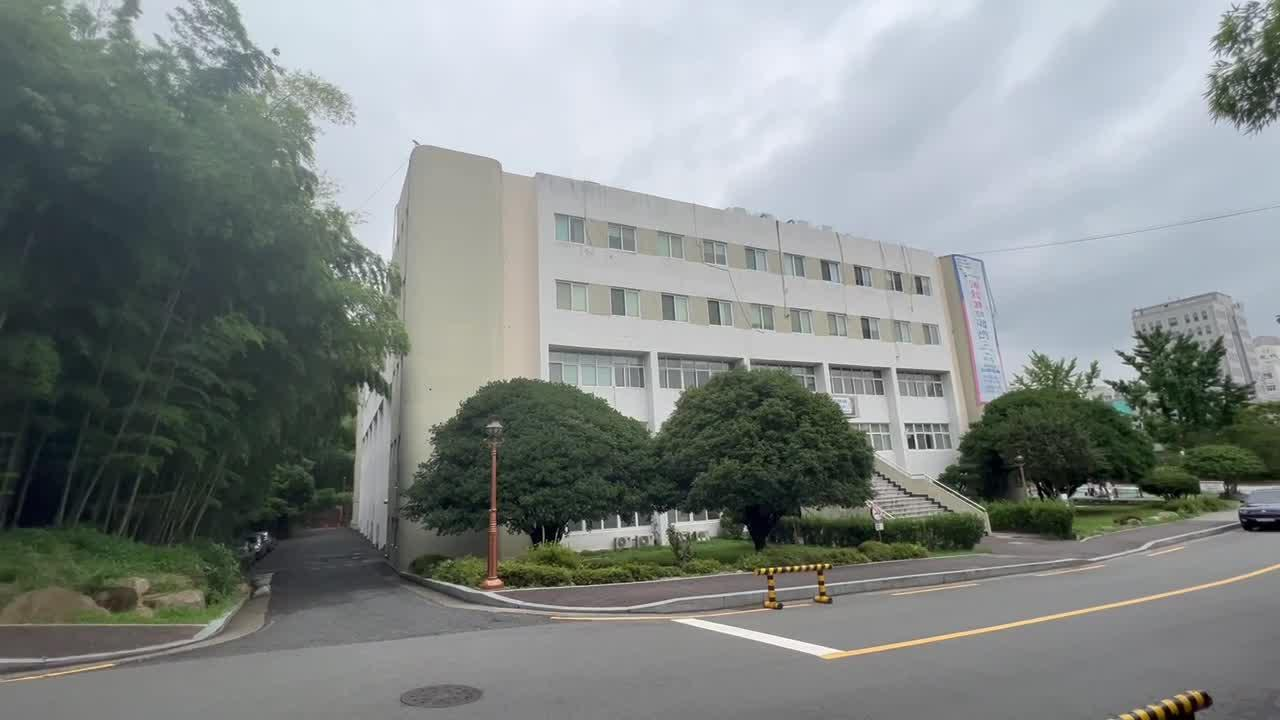building: (376, 140, 960, 360)
